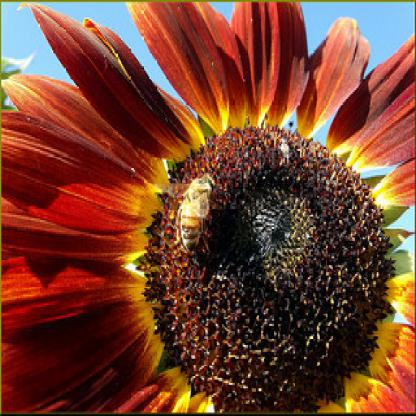SUN FLOWER: (111, 41, 412, 413)
